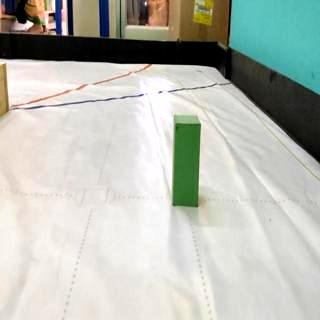greenbox: (172, 114, 202, 208)
